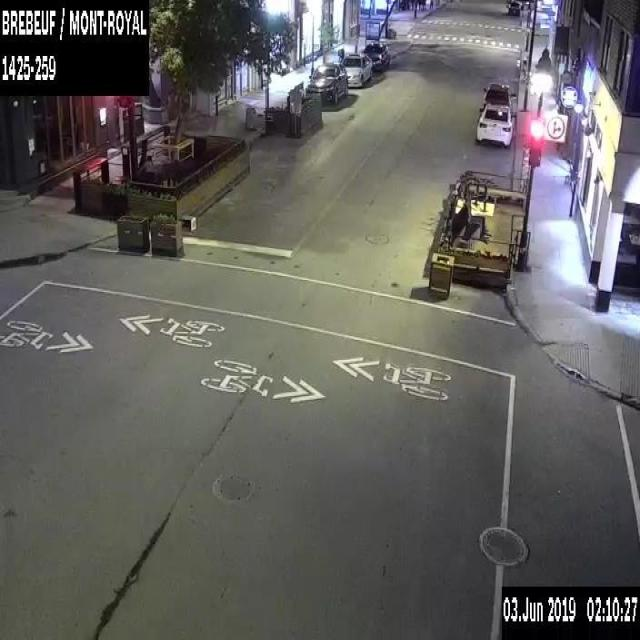vehicle: (304, 61, 346, 106), (474, 104, 516, 144), (337, 51, 371, 88), (483, 82, 514, 114), (363, 40, 390, 69), (507, 0, 520, 15)
